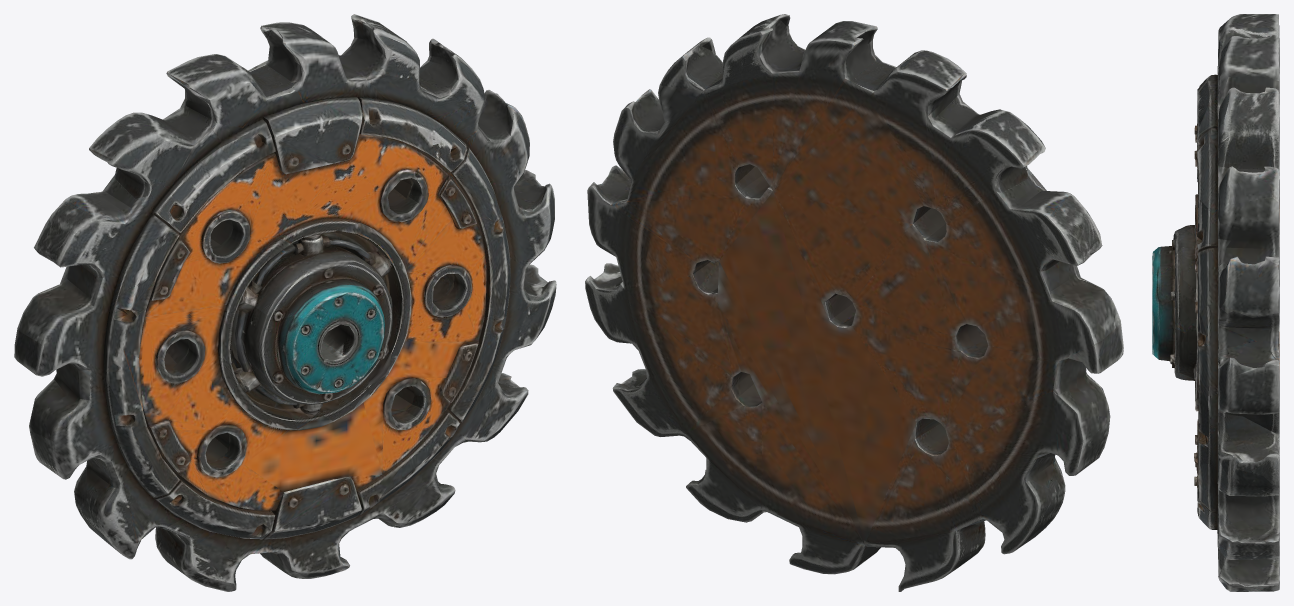
The model's file is saw.glb.
The picture shows the model from 3 angles, left to right: view 1: azimuth 30°, elevation 25°; view 2: azimuth 150°, elevation 25°; view 3: azimuth 270°, elevation 25°; orthographic projection. The views are drawn at different scales.
Parts seen in each view (by area): view 1: Mesh_0; view 2: Mesh_0; view 3: Mesh_0.
Part boxes in pixels (<box>): Mesh_0: <box>14,14,556,591</box>; Mesh_0: <box>585,14,1123,591</box>; Mesh_0: <box>1152,14,1279,591</box>.
Bounding box in the file's own units: 0.951 × 0.95 × 0.2099.
1 material, 1 textured.
